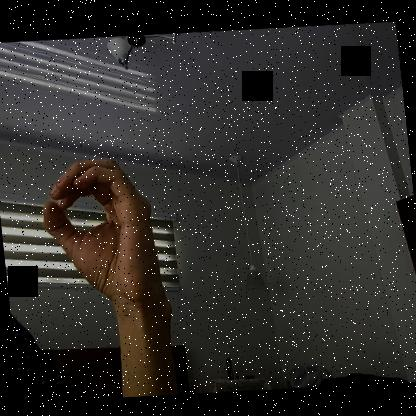O: (31, 147, 166, 314)
